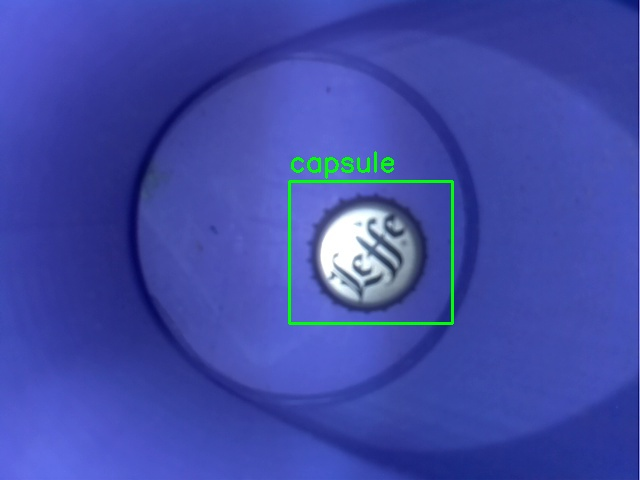capsule: (289, 181, 452, 323)
